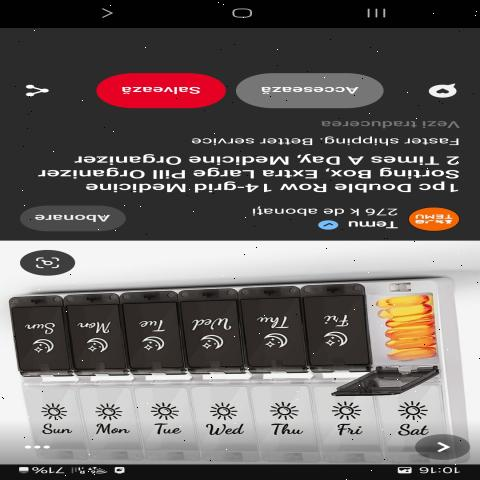PillBox: (0, 276, 447, 397)
